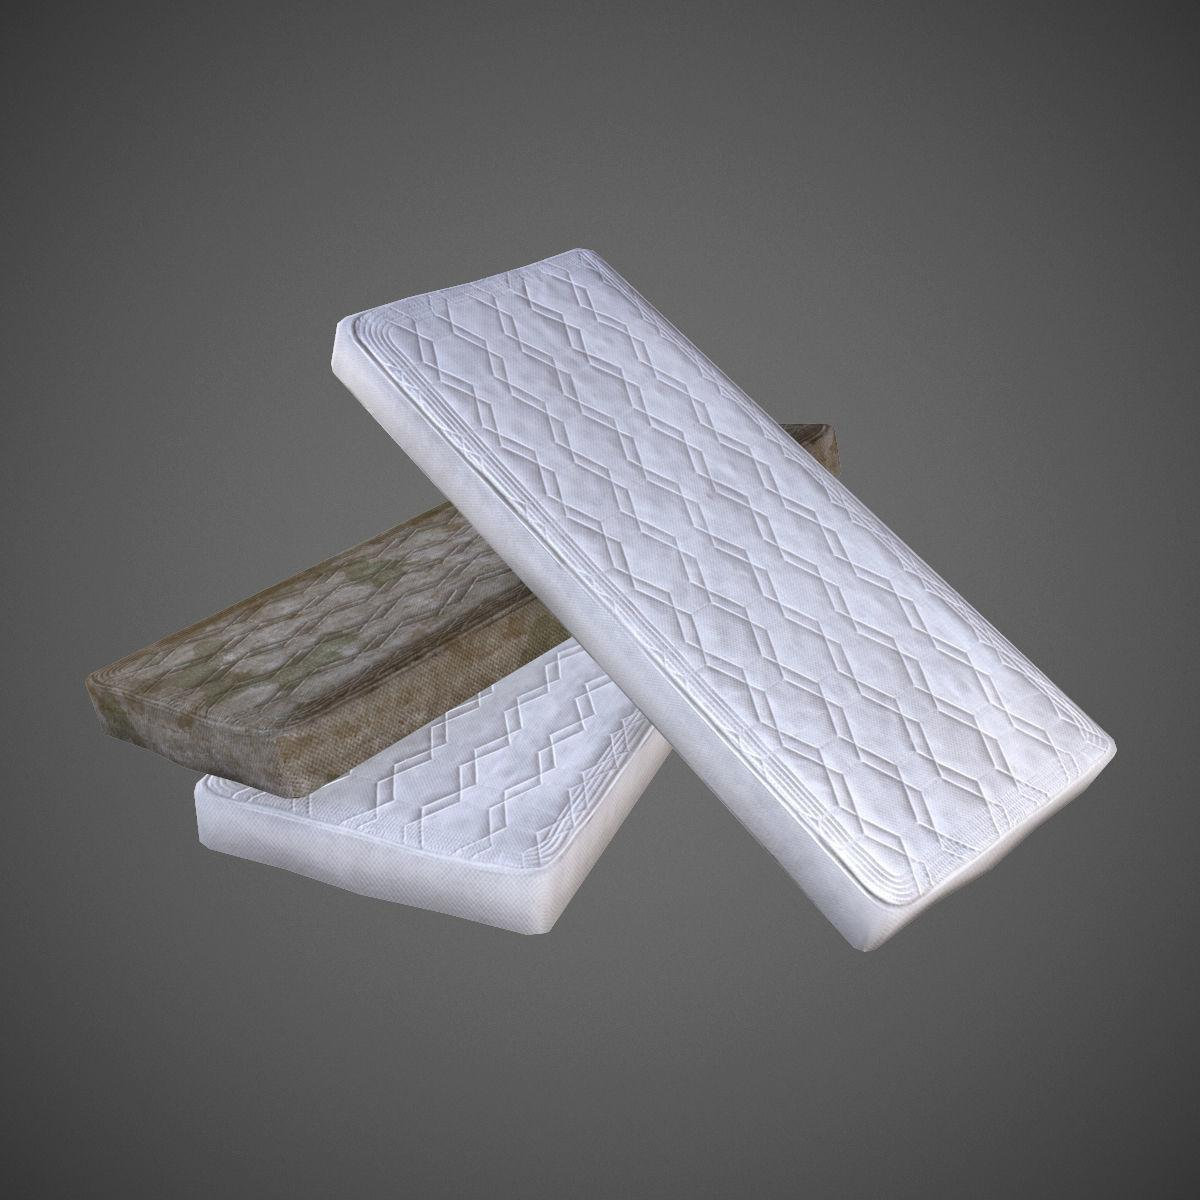Bed-Mattress: (298, 240, 1125, 962), (178, 593, 700, 940), (86, 502, 568, 799)
